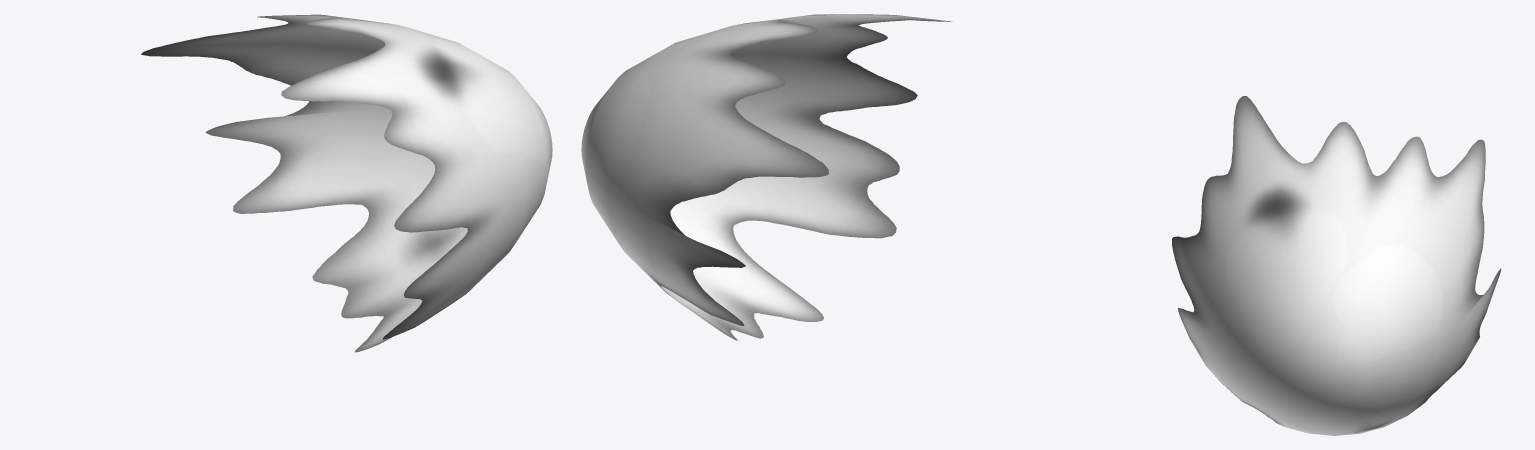
Rendered from SM_halfsphere.FBX.
The picture shows the model from 3 angles, left to right: view 1: azimuth 30°, elevation 25°; view 2: azimuth 150°, elevation 25°; view 3: azimuth 270°, elevation 25°; orthographic projection. The views are drawn at different scales.
Visible parts, largest first — view 1: Sphere001; view 2: Sphere001; view 3: Sphere001.
Boxes of the visible parts, box(x1,y1,x2,y2) form: Sphere001: box(141, 14, 552, 352); Sphere001: box(581, 14, 952, 340); Sphere001: box(1172, 96, 1501, 435).
Size of the model in its own units: 99.47 by 82.46 by 82.46.
